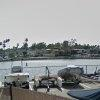Boat: (4, 66, 36, 86)
